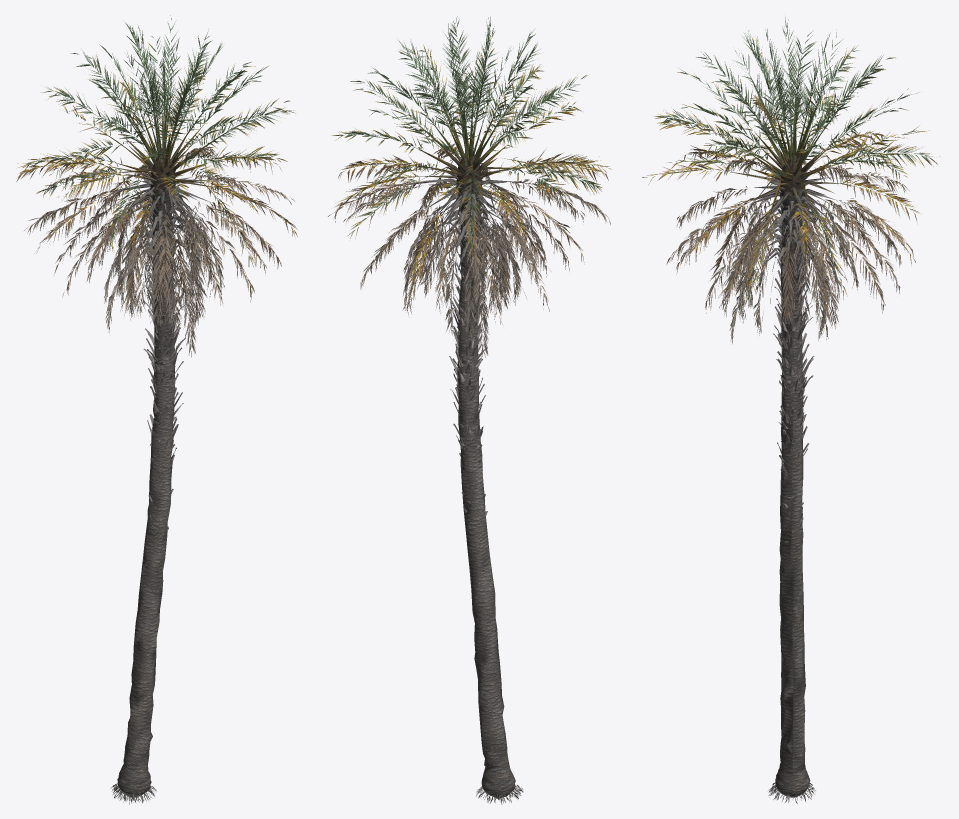
The model's file is palm_queen_a.glb.
The picture shows the model from 3 angles, left to right: view 1: azimuth 30°, elevation 25°; view 2: azimuth 150°, elevation 25°; view 3: azimuth 270°, elevation 25°; orthographic projection. The views are drawn at different scales.
Visible parts, largest first — view 1: Phoenix_dactylifera_HD_Phoenix crown 02_0; view 2: Phoenix_dactylifera_HD_Phoenix crown 02_0; view 3: Phoenix_dactylifera_HD_Phoenix crown 02_0.
Boxes of the visible parts, <box> form: Phoenix_dactylifera_HD_Phoenix crown 02_0: <box>16,15,297,804</box>; Phoenix_dactylifera_HD_Phoenix crown 02_0: <box>328,16,611,804</box>; Phoenix_dactylifera_HD_Phoenix crown 02_0: <box>642,17,939,803</box>.
Bounding box in the file's own units: 6.77 × 19.34 × 6.81.
Materials: 15 (15 with a texture image).
